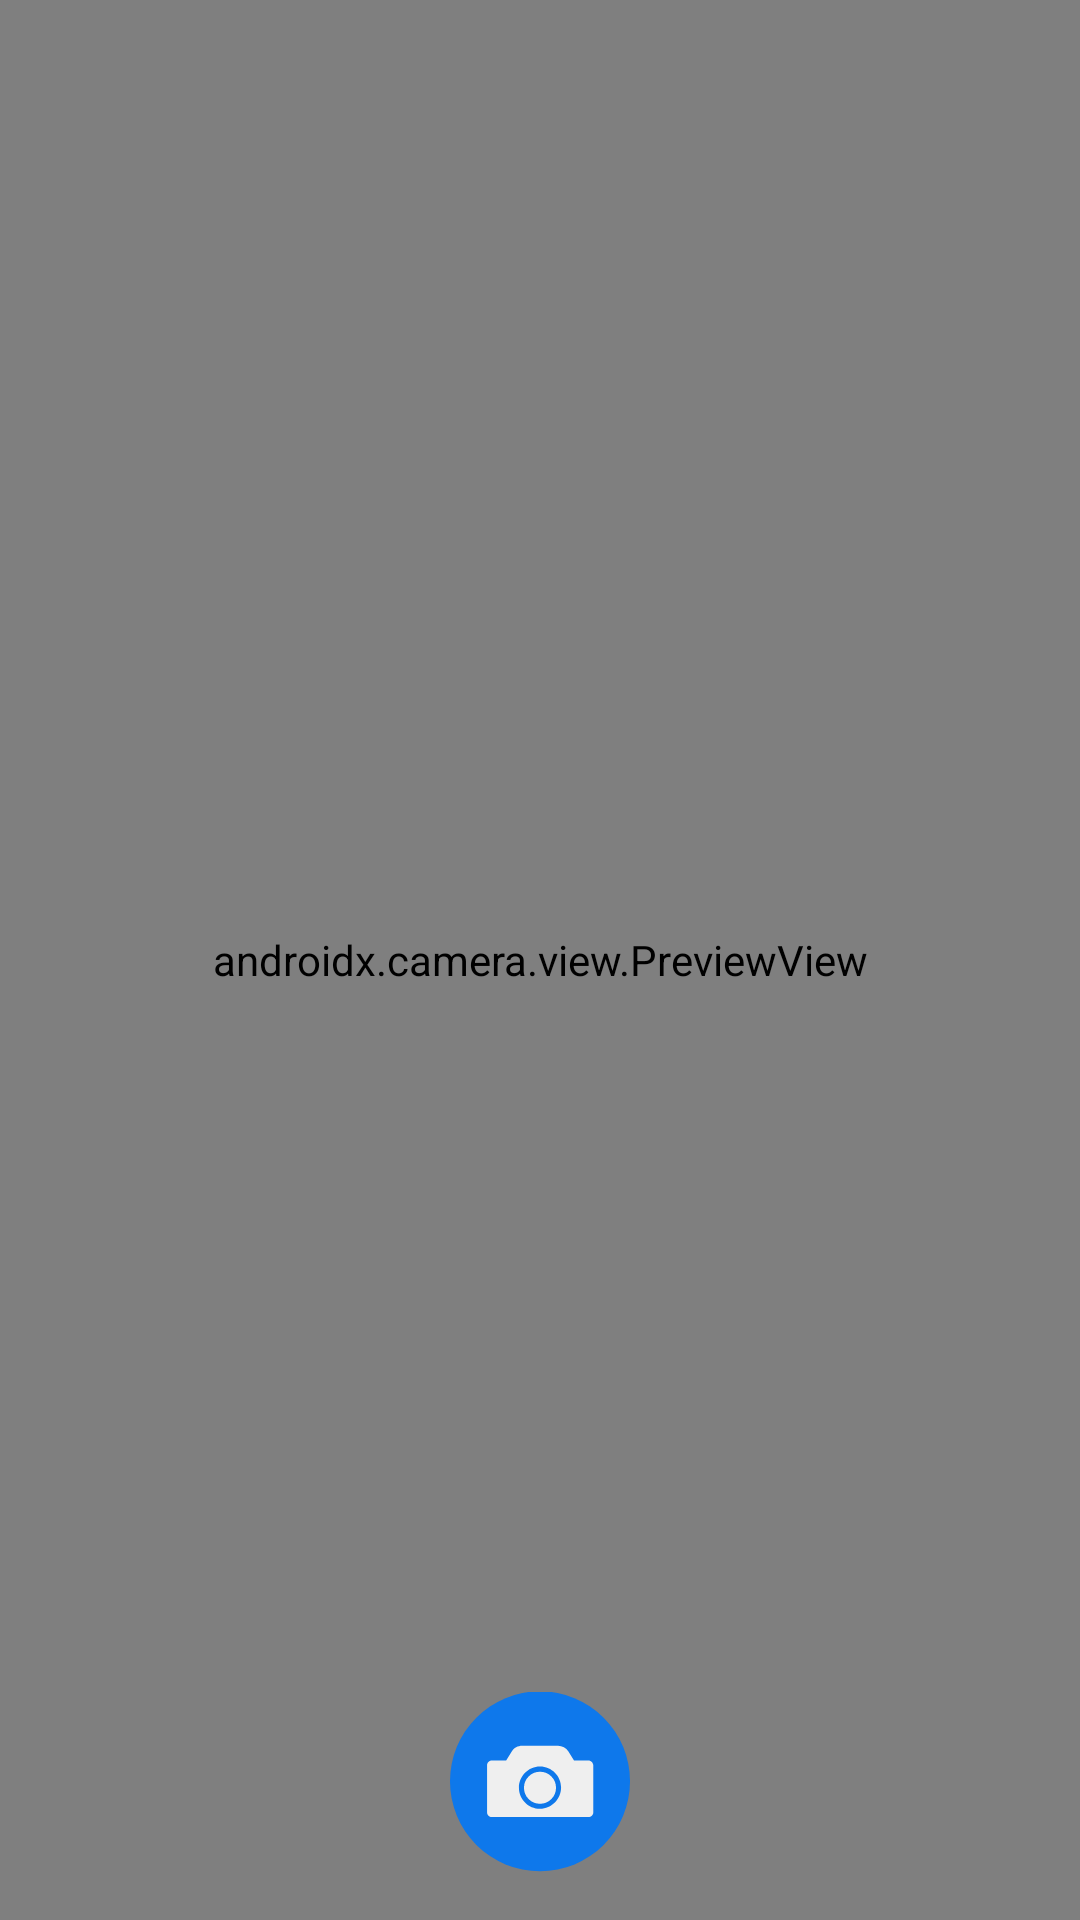

Screen size 1080*1920. Icon name, then its box in pixels as Rect(x1, y1, x2, y2):
Take picture: Rect(450, 1692, 630, 1872)
